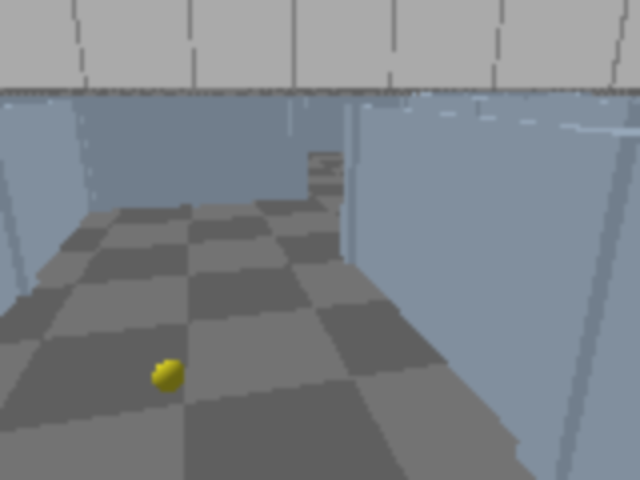puck: (150, 351, 189, 402)
